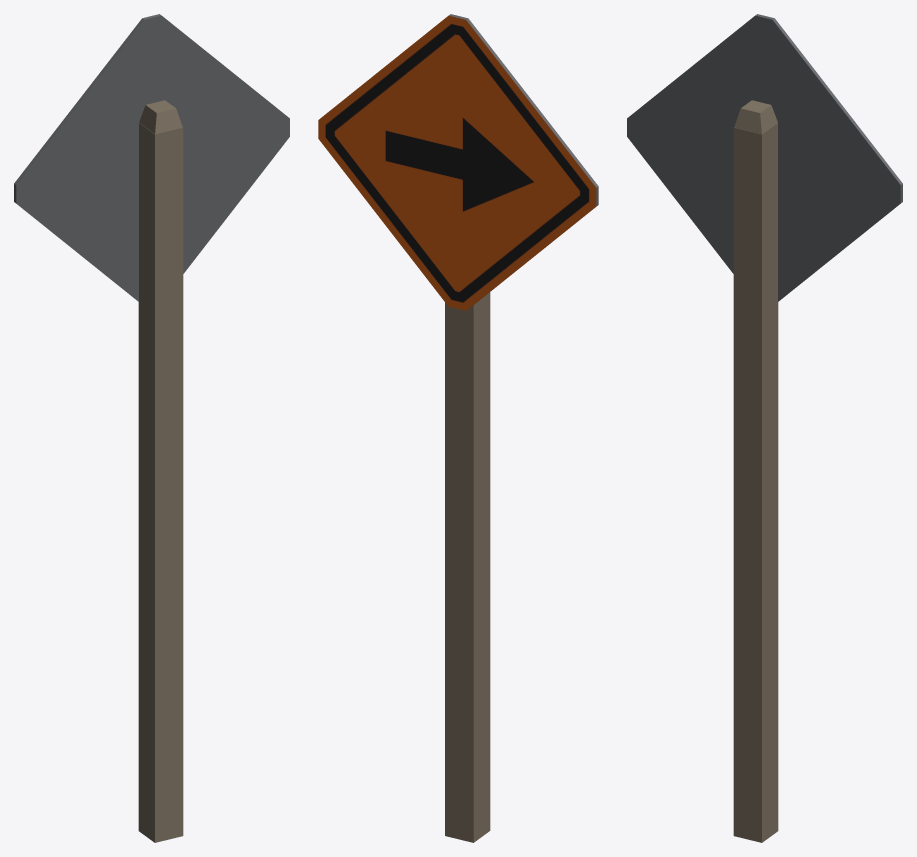
The model's file is work-sign-arrow.glb.
The picture shows the model from 3 angles, left to right: view 1: azimuth 30°, elevation 25°; view 2: azimuth 150°, elevation 25°; view 3: azimuth 330°, elevation 25°; orthographic projection.
Visible parts, largest first — view 1: work-sign-arrow; view 2: work-sign-arrow; view 3: work-sign-arrow.
Part boxes in pixels (box(x1,y1,x2,y2)): work-sign-arrow: box(14, 14, 289, 842); work-sign-arrow: box(318, 14, 598, 842); work-sign-arrow: box(627, 14, 902, 842).
Size of the model in its own units: 0.8592 by 2.43 by 0.099.
3 materials, 1 textured.
